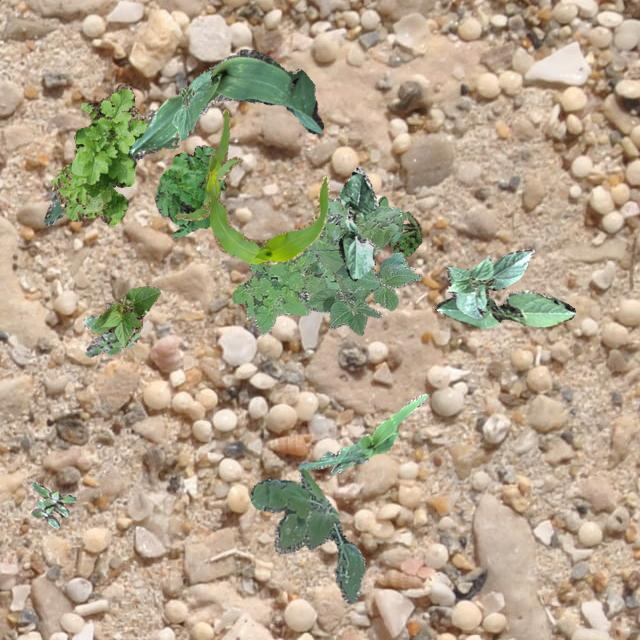crop: (42, 48, 322, 225), (174, 108, 328, 264), (298, 392, 427, 473), (302, 248, 420, 334), (444, 246, 534, 318), (436, 290, 574, 328), (90, 284, 160, 348), (338, 166, 376, 280), (172, 70, 210, 138)
weed: (232, 196, 402, 334), (250, 468, 364, 602), (52, 82, 146, 224), (153, 144, 224, 236), (82, 302, 138, 356), (30, 480, 74, 528), (388, 210, 420, 256), (376, 196, 406, 220)
